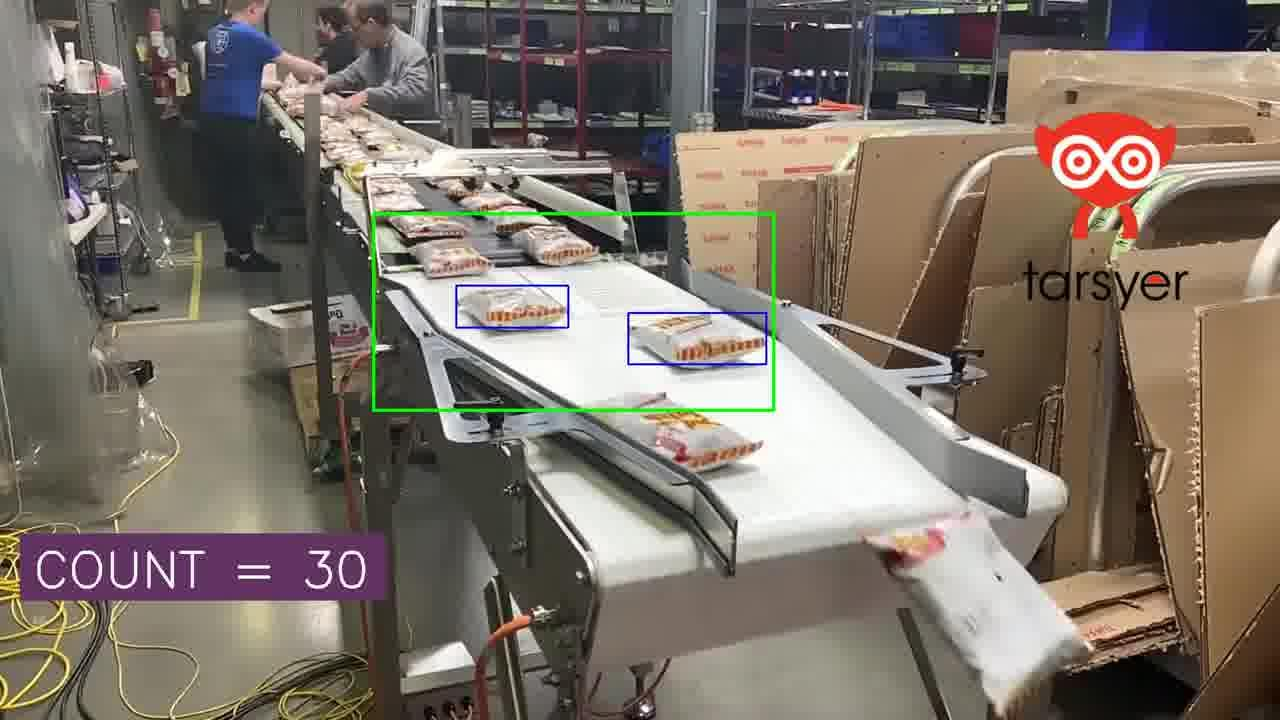Snack: (867, 510, 1090, 717), (599, 393, 762, 471), (630, 313, 765, 363), (459, 286, 566, 327), (512, 225, 597, 265), (409, 241, 491, 276), (386, 215, 469, 240), (490, 205, 552, 236), (435, 178, 495, 201), (458, 191, 517, 211), (371, 191, 424, 211), (373, 144, 430, 162), (325, 143, 368, 165), (367, 177, 414, 196), (361, 128, 400, 148), (346, 113, 377, 135), (320, 95, 341, 116)
